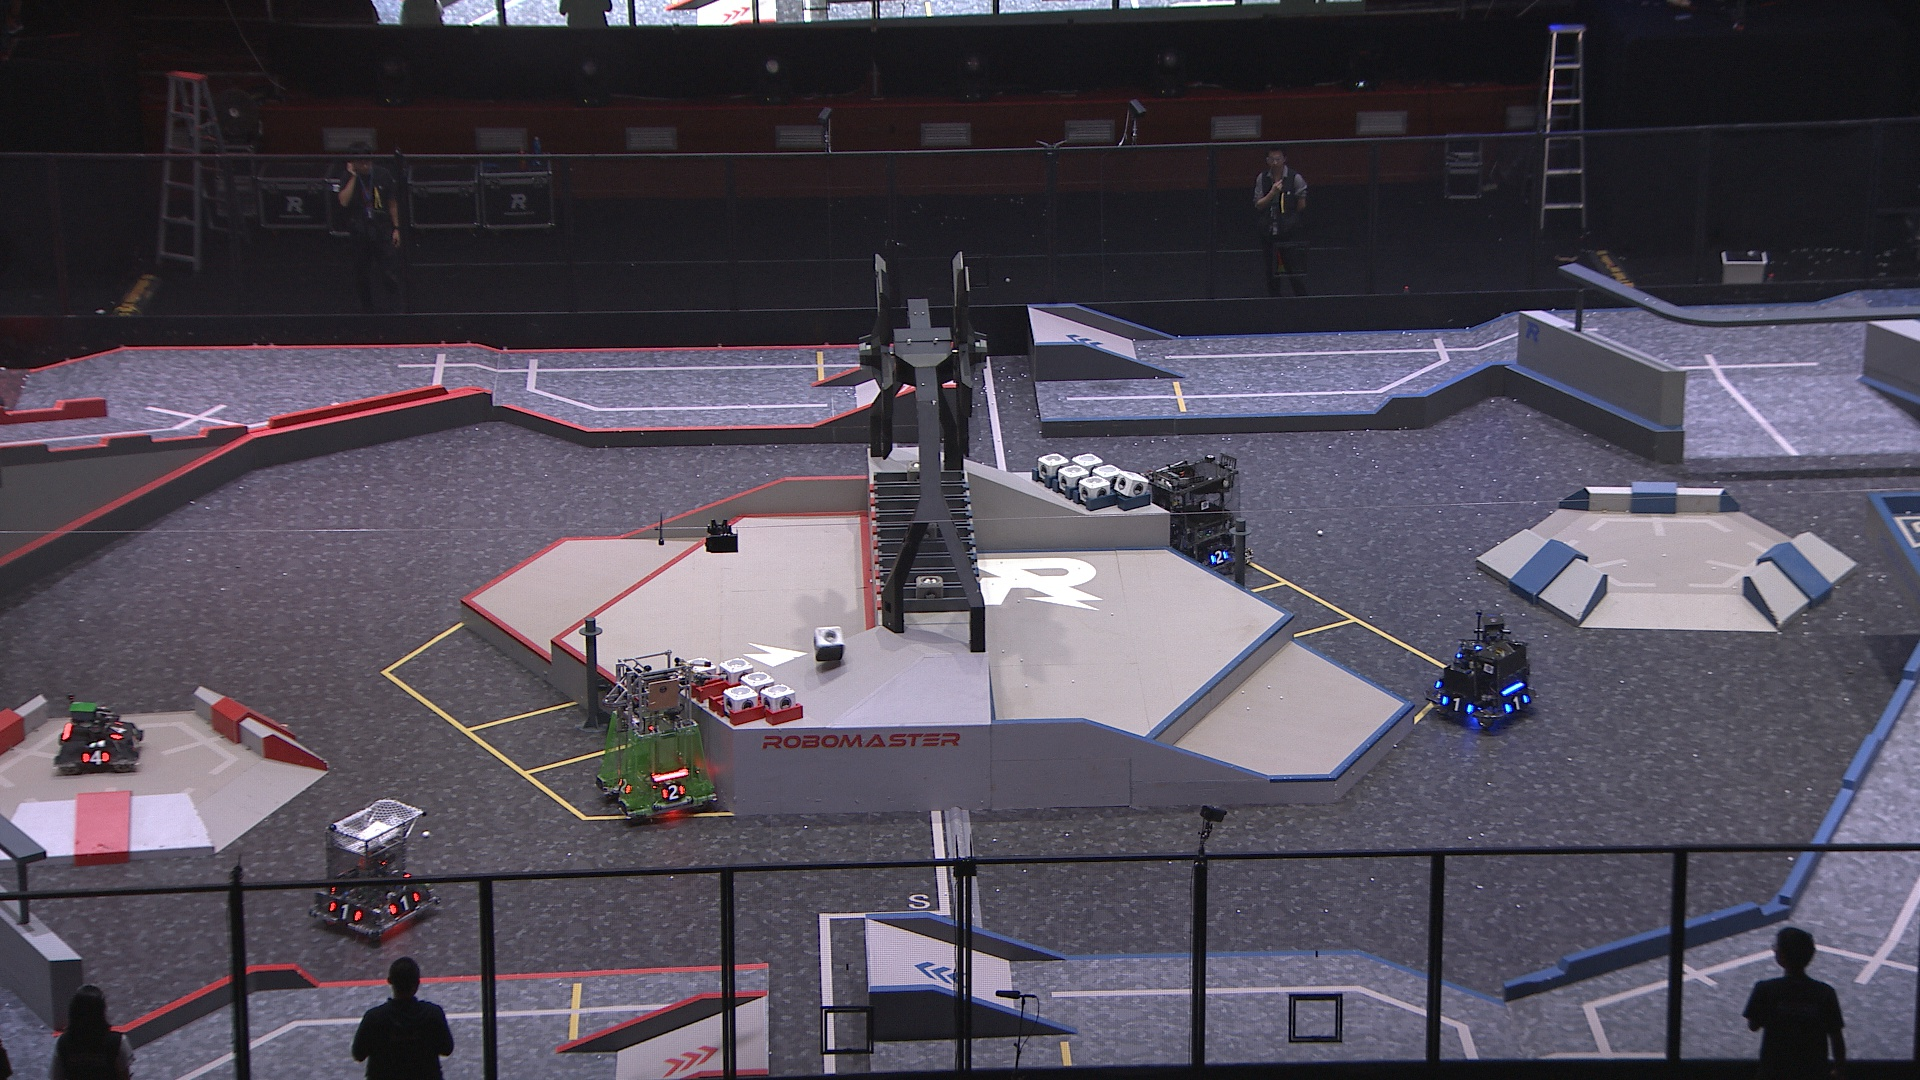armor: (1437, 694, 1476, 717), (327, 903, 367, 924), (390, 891, 419, 915), (103, 717, 128, 741), (82, 750, 115, 765), (1505, 694, 1528, 713), (662, 785, 686, 800), (1209, 550, 1230, 566), (615, 778, 632, 796), (128, 732, 142, 752)
car: (591, 651, 721, 820), (309, 800, 440, 949), (1139, 456, 1250, 575), (1419, 633, 1542, 731), (50, 694, 145, 774)
